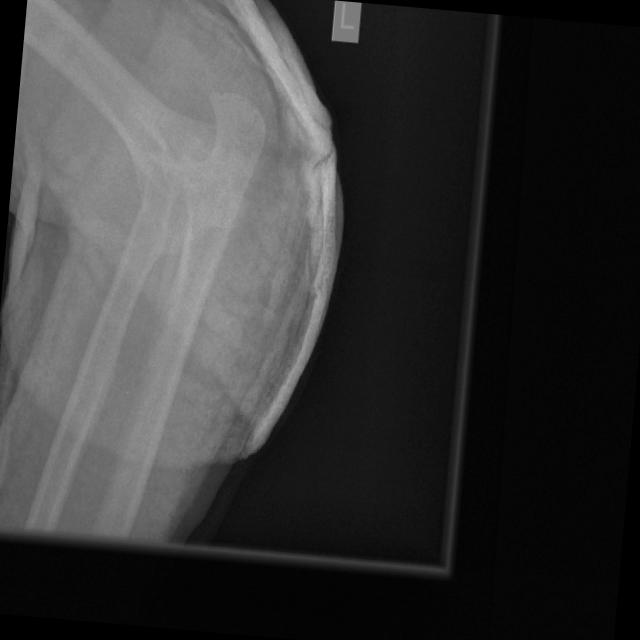elbow positive: (149, 78, 258, 204)
